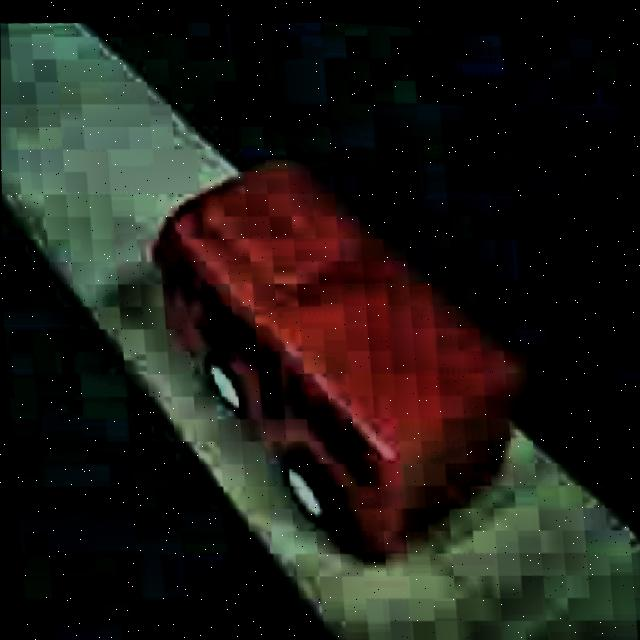bus: (138, 127, 537, 597)
